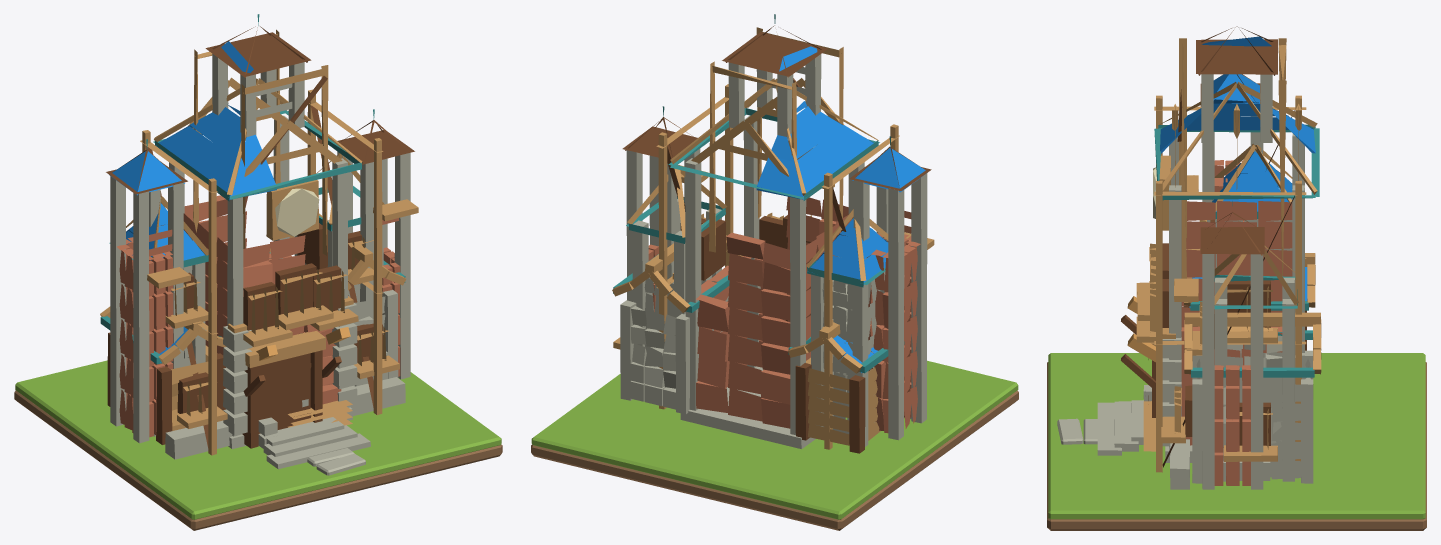
Rendered from town_hall_l11_construction_LOD2.glb.
The picture shows the model from 3 angles, left to right: view 1: azimuth 30°, elevation 25°; view 2: azimuth 150°, elevation 25°; view 3: azimuth 270°, elevation 25°; orthographic projection. The views are drawn at different scales.
Parts seen in each view (by area): view 1: town_hall_l11_construction_foundation.001, town_hall_l11_construction_grass_tile.001, town_hall_l11_construction_earth_tile.001, town_hall_l11_construction_path_stone.005; view 2: town_hall_l11_construction_foundation.001, town_hall_l11_construction_grass_tile.001, town_hall_l11_construction_earth_tile.001; view 3: town_hall_l11_construction_foundation.001, town_hall_l11_construction_grass_tile.001, town_hall_l11_construction_earth_tile.001, town_hall_l11_construction_path_stone.005.
Boxes of the visible parts, box(x1,y1,x2,y2) form: town_hall_l11_construction_foundation.001: box(100, 14, 418, 469); town_hall_l11_construction_grass_tile.001: box(15, 360, 501, 519); town_hall_l11_construction_earth_tile.001: box(14, 390, 502, 530); town_hall_l11_construction_path_stone.005: box(316, 453, 365, 475); town_hall_l11_construction_foundation.001: box(612, 14, 934, 453); town_hall_l11_construction_grass_tile.001: box(531, 360, 1018, 519); town_hall_l11_construction_earth_tile.001: box(531, 390, 1018, 530); town_hall_l11_construction_foundation.001: box(1097, 26, 1321, 489); town_hall_l11_construction_grass_tile.001: box(1048, 353, 1425, 519); town_hall_l11_construction_earth_tile.001: box(1047, 362, 1426, 530); town_hall_l11_construction_path_stone.005: box(1057, 418, 1083, 444).
Bounding box in the file's own units: 3.6 × 4.58 × 3.6.
